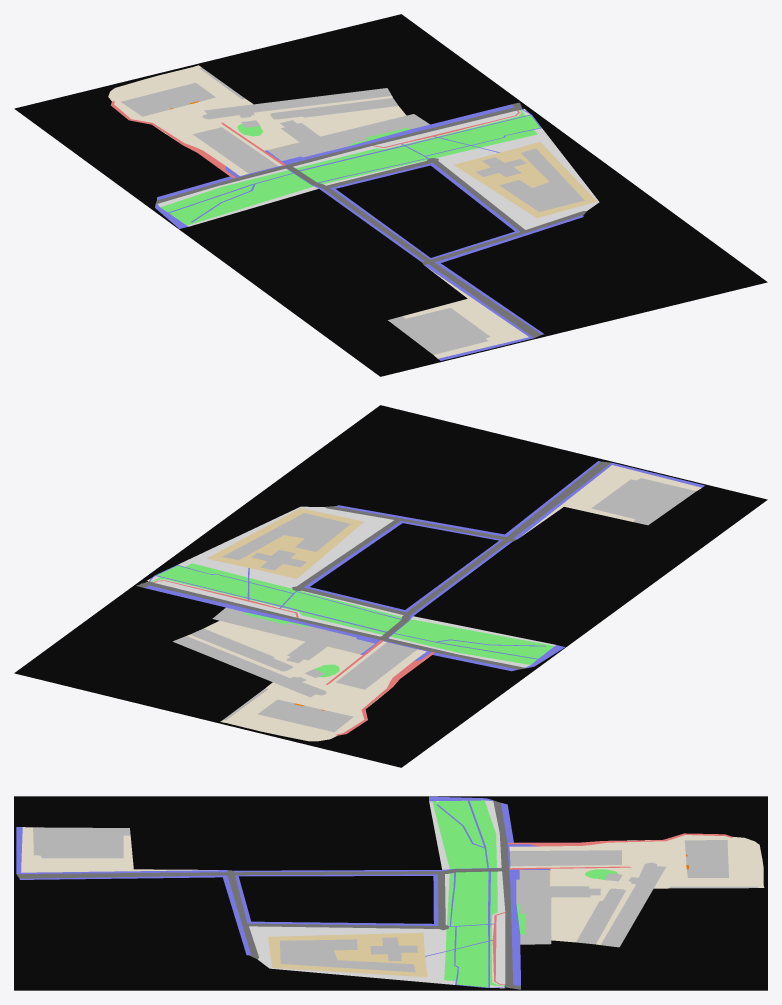
Rendered from map.obj.
3 renders of one model, top to bottom at view 1: azimuth 30°, elevation 25°; view 2: azimuth 150°, elevation 25°; view 3: azimuth 270°, elevation 25°, orthographic. The views are drawn at different scales.
Bounding box in the file's own units: 5.8 × 0 × 9.5.
